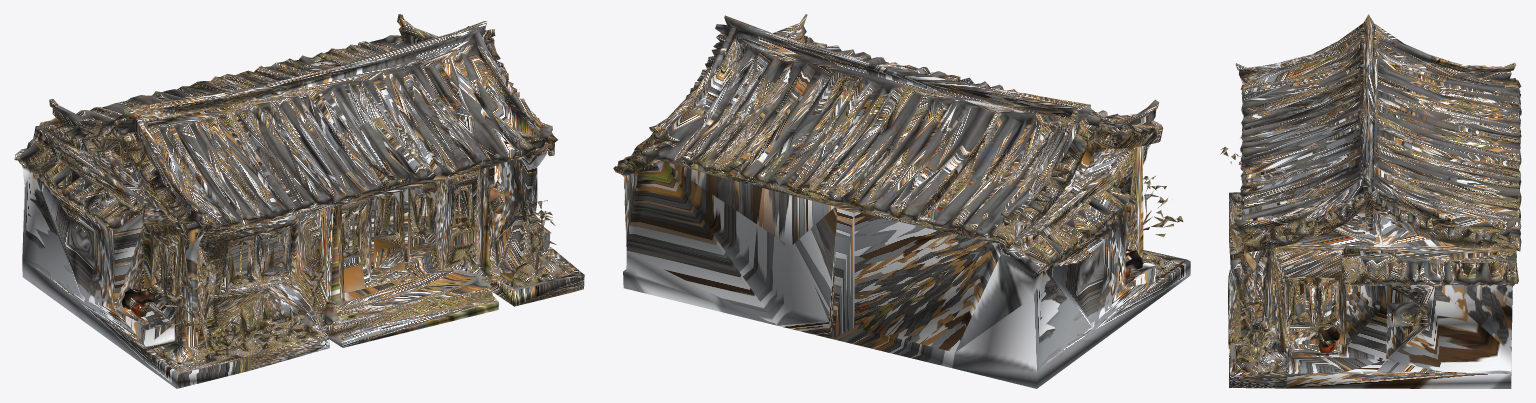
The model's file is lib_courtyard.lod.glb.
3 renders of one model, left to right at view 1: azimuth 30°, elevation 25°; view 2: azimuth 150°, elevation 25°; view 3: azimuth 270°, elevation 25°, orthographic. The views are drawn at different scales.
Size of the model in its own units: 1.88 by 0.928 by 1.26.
1 material, 1 textured.
